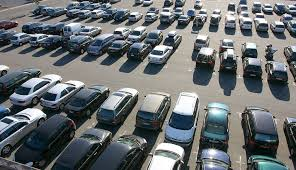car: (17, 113, 76, 166), (51, 127, 112, 170), (85, 135, 145, 170), (241, 104, 280, 155), (63, 78, 111, 118), (163, 89, 196, 145), (9, 73, 64, 106), (96, 84, 139, 126), (135, 90, 171, 133), (40, 78, 89, 109), (200, 101, 230, 149), (145, 140, 187, 170), (265, 58, 293, 90), (148, 41, 175, 65), (127, 38, 151, 65), (86, 33, 113, 55), (67, 34, 95, 55), (195, 45, 217, 71), (241, 56, 263, 82), (106, 38, 130, 59), (219, 49, 237, 72), (40, 36, 66, 51), (163, 31, 184, 48), (62, 24, 90, 36), (240, 42, 259, 59), (79, 26, 105, 38), (129, 27, 149, 42), (146, 31, 165, 46), (238, 17, 254, 33), (219, 38, 235, 54), (28, 34, 51, 45), (223, 15, 238, 31), (255, 18, 269, 35), (159, 13, 176, 27), (113, 27, 132, 39), (195, 33, 210, 48), (114, 8, 130, 22), (192, 14, 206, 29), (101, 10, 120, 21), (128, 11, 145, 23), (177, 14, 191, 28), (270, 21, 286, 33), (144, 12, 159, 24), (210, 14, 221, 28)
